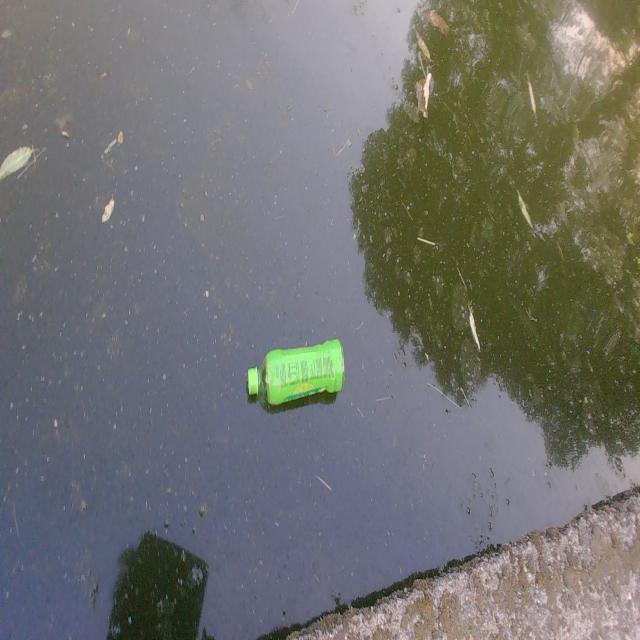Bottle: (244, 330, 349, 410)
